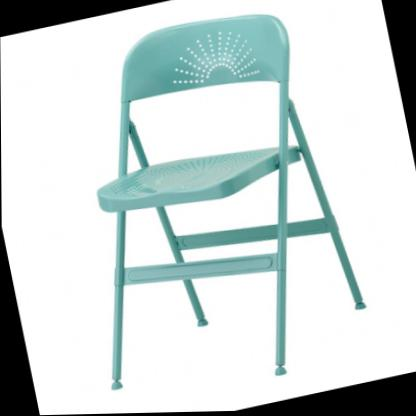Chair: (41, 0, 376, 415)
